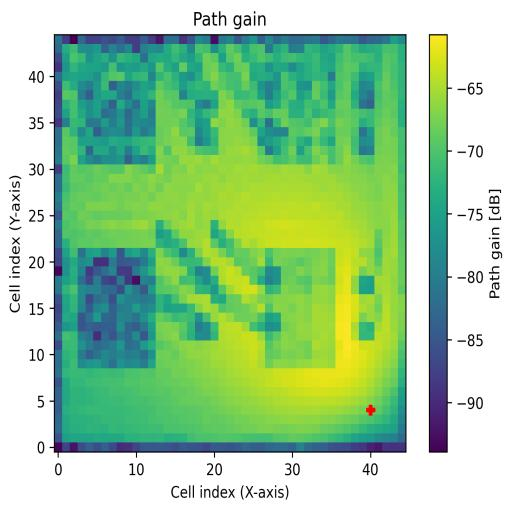Concrete: (257, 52, 336, 166)
Glass: (78, 52, 156, 164)
Metal: (266, 249, 335, 367)
Wood: (77, 248, 156, 368)
